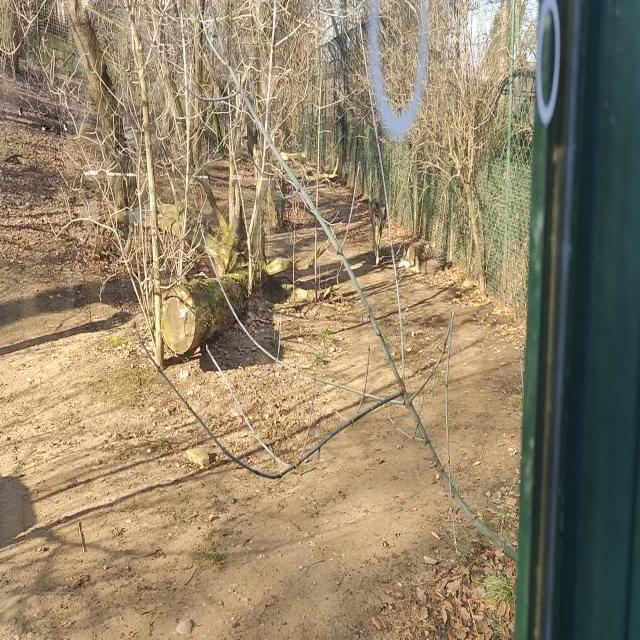dog: (370, 197, 387, 267)
